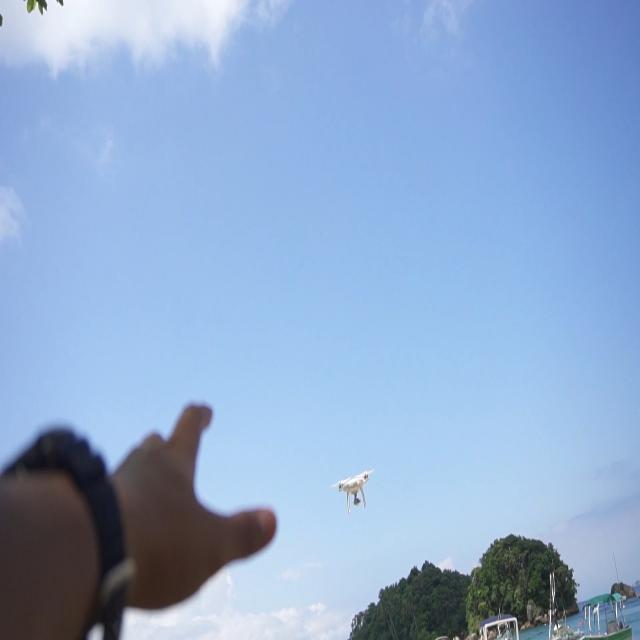Drone: (333, 472, 377, 518)
